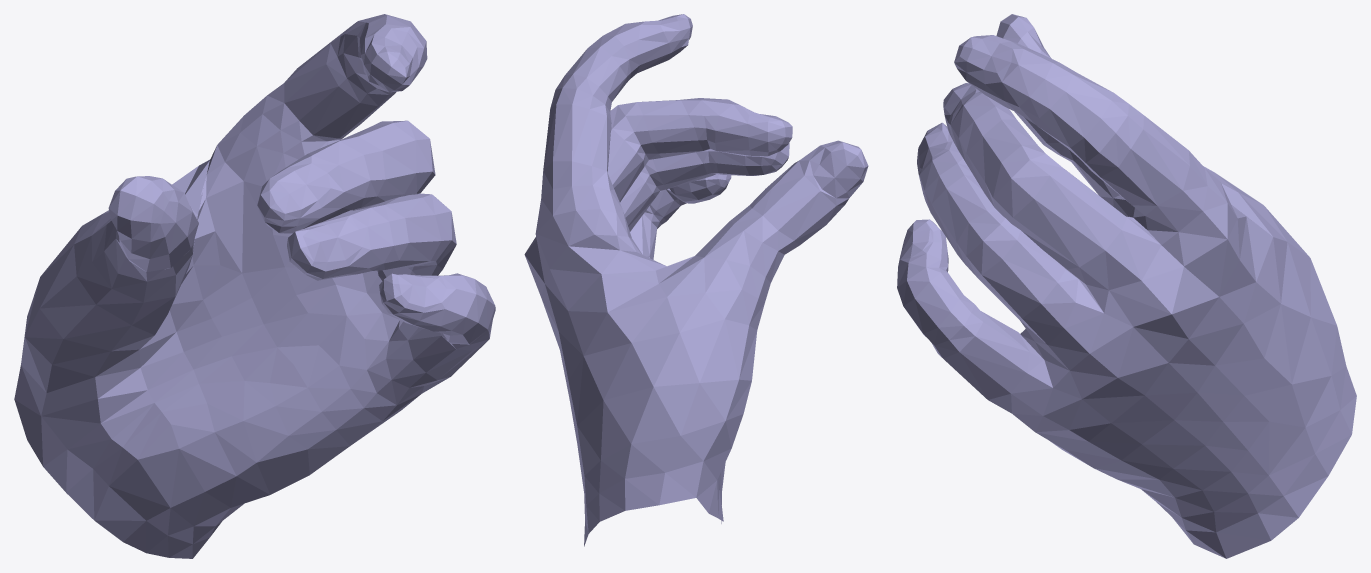
File: hand_0089.glb
3 renders of one model, left to right at view 1: azimuth 30°, elevation 25°; view 2: azimuth 150°, elevation 25°; view 3: azimuth 270°, elevation 25°, orthographic. The views are drawn at different scales.
Visible parts, largest first — view 1: world; view 2: world; view 3: world.
Part boxes in pixels (box(x1,y1,x2,y2)): world: box(14, 14, 495, 558); world: box(524, 14, 868, 546); world: box(897, 14, 1356, 558).
Size of the model in its own units: 0.0955 by 0.1489 by 0.1142.
